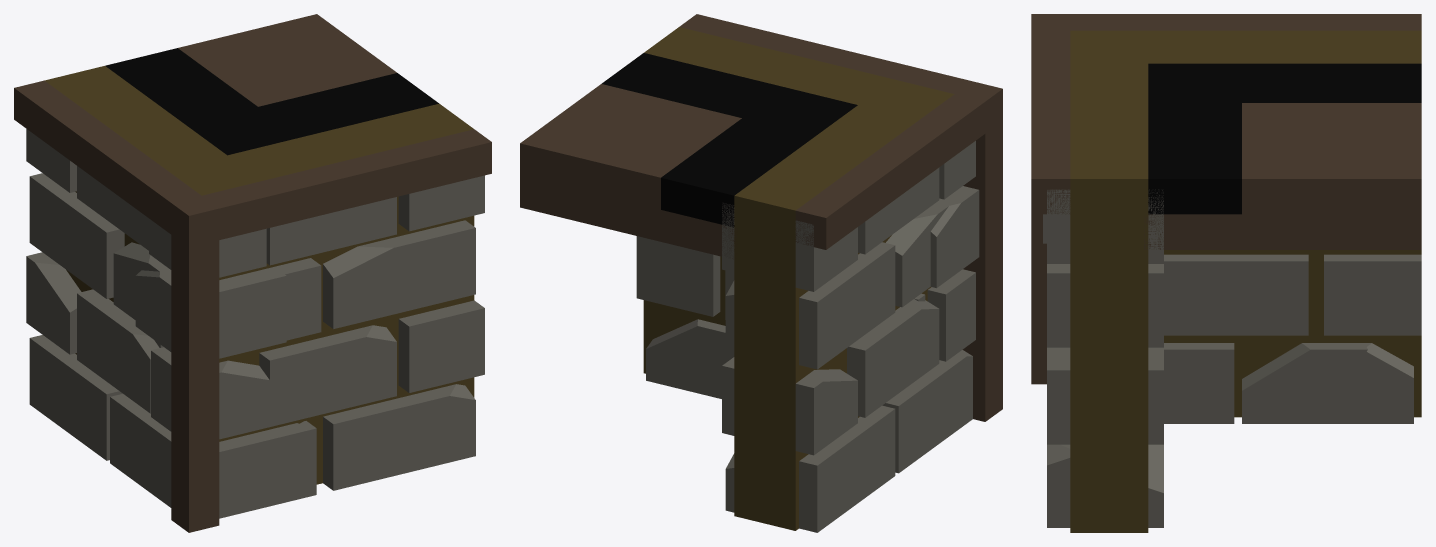
File: A_BrickWallFloor08.fbx
3 renders of one model, left to right at view 1: azimuth 30°, elevation 25°; view 2: azimuth 150°, elevation 25°; view 3: azimuth 270°, elevation 25°, orthographic. The views are drawn at different scales.
Visible parts, largest first — view 1: A_BrickWallFloor08; view 2: A_BrickWallFloor08; view 3: A_BrickWallFloor08.
Part boxes in pixels (x1=…): A_BrickWallFloor08: x1=14, y1=14, x2=491, y2=532; A_BrickWallFloor08: x1=520, y1=14, x2=1002, y2=532; A_BrickWallFloor08: x1=1031, y1=14, x2=1421, y2=532.
Size of the model in its own units: 100 by 100 by 100.
